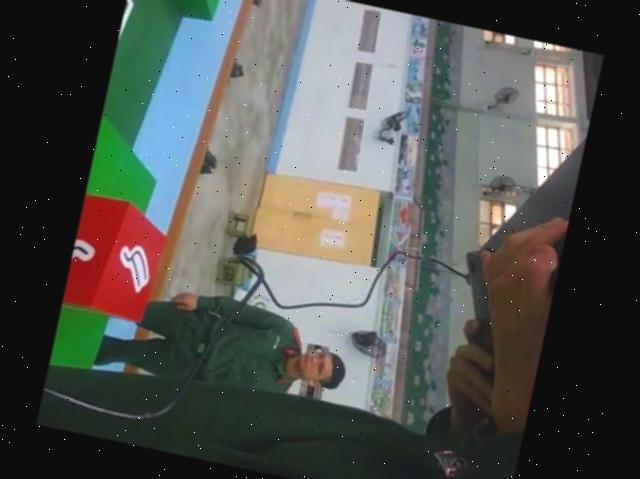R2 Real: (61, 186, 179, 328)
